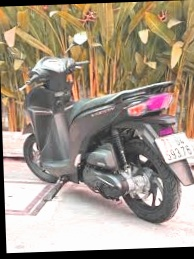Bien-so: (150, 138, 191, 172)
